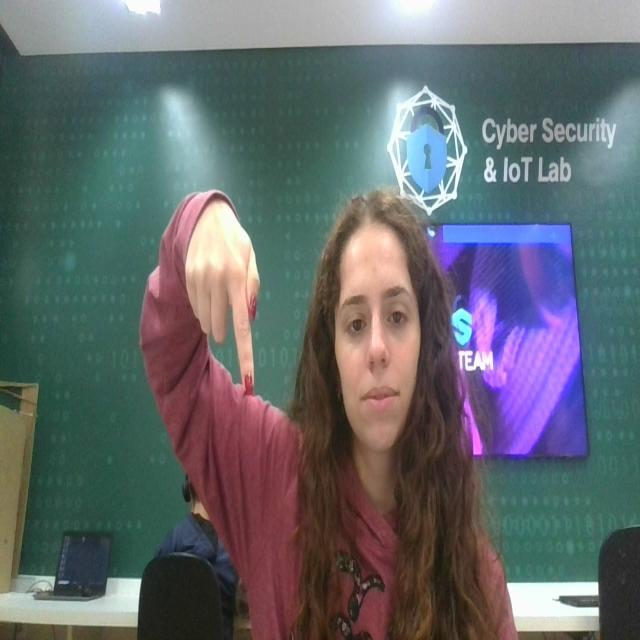Q: (178, 176, 264, 416)
